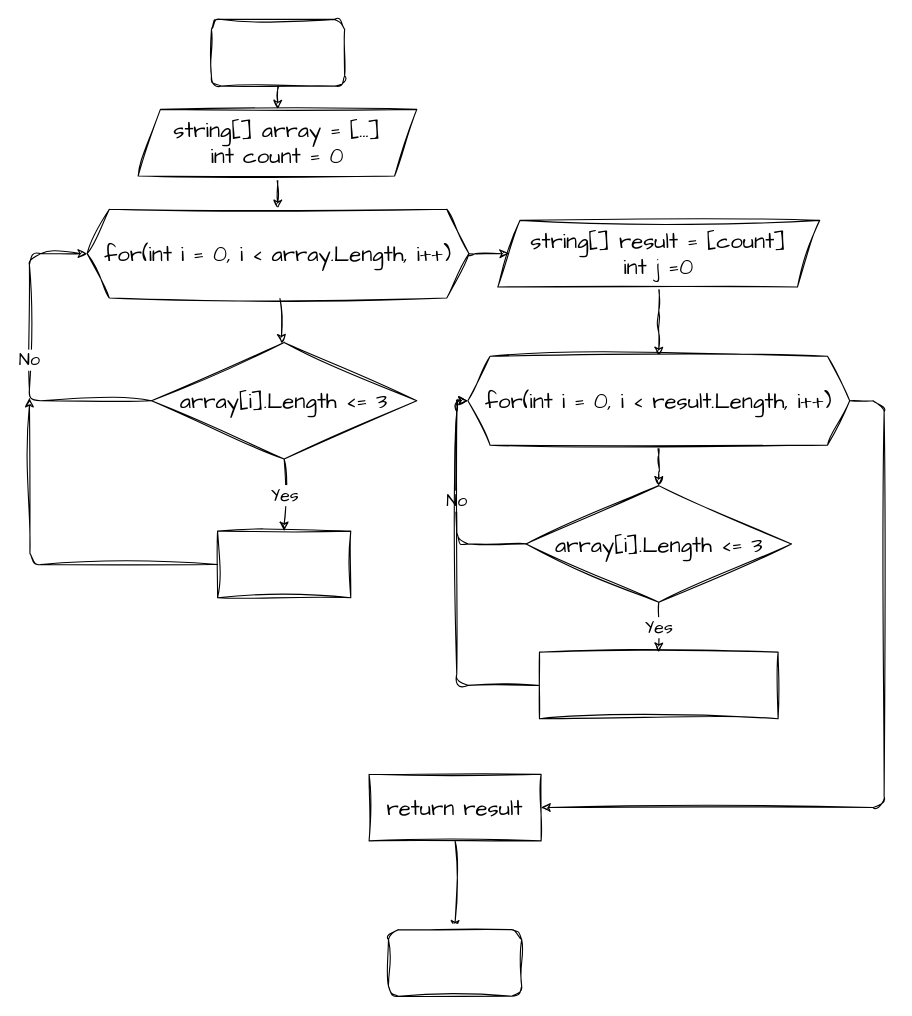
This 912x1016 diagram has some shape labels left out. Each missing label, with the centre of its shape:
"count++" belongs at point 283,564.
"Finish" belongs at point 454,962.
"result[j] = array[i] j++" belongs at point 658,685.
"Start" belongs at point 277,52.
